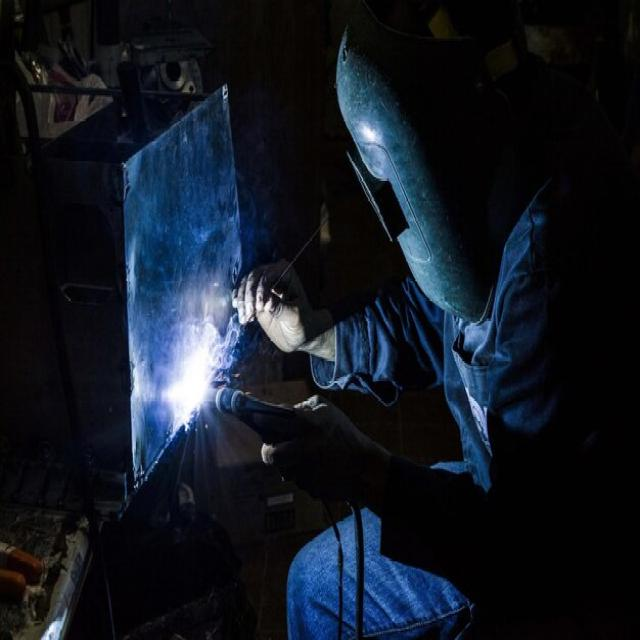with_helmet: (332, 14, 520, 341)
